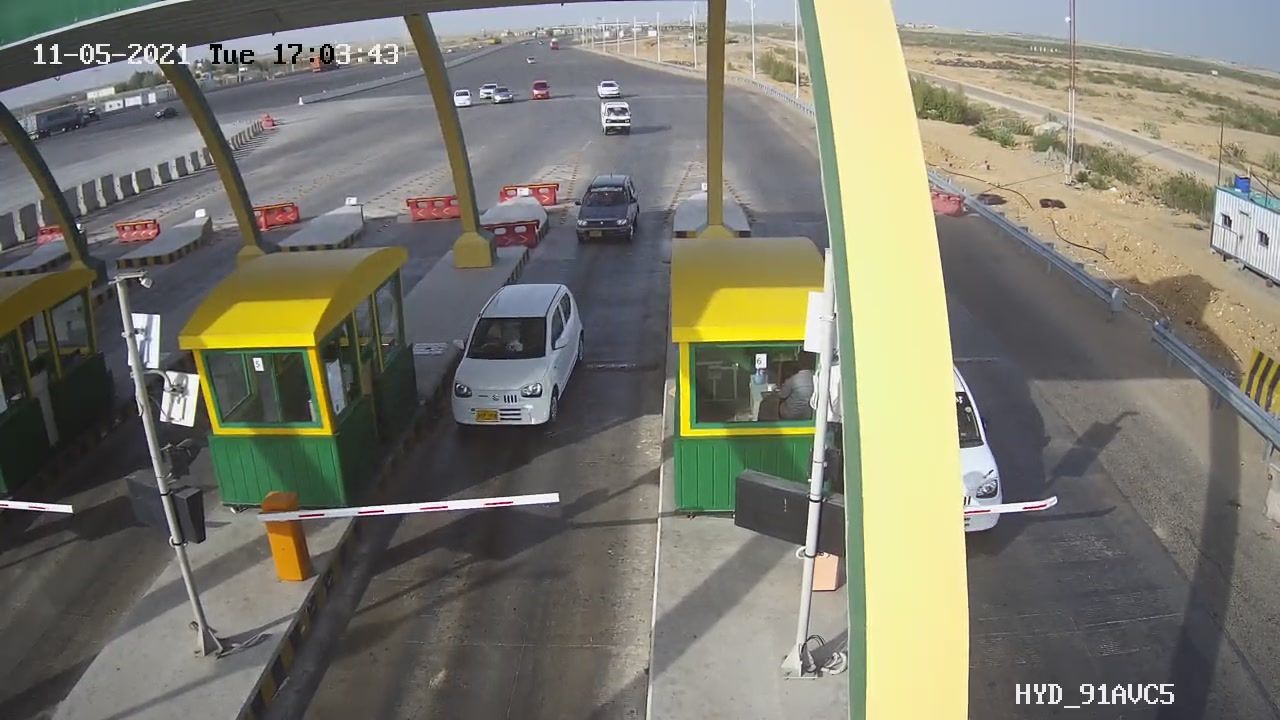F1: (433, 266, 614, 457), (561, 165, 657, 255)
